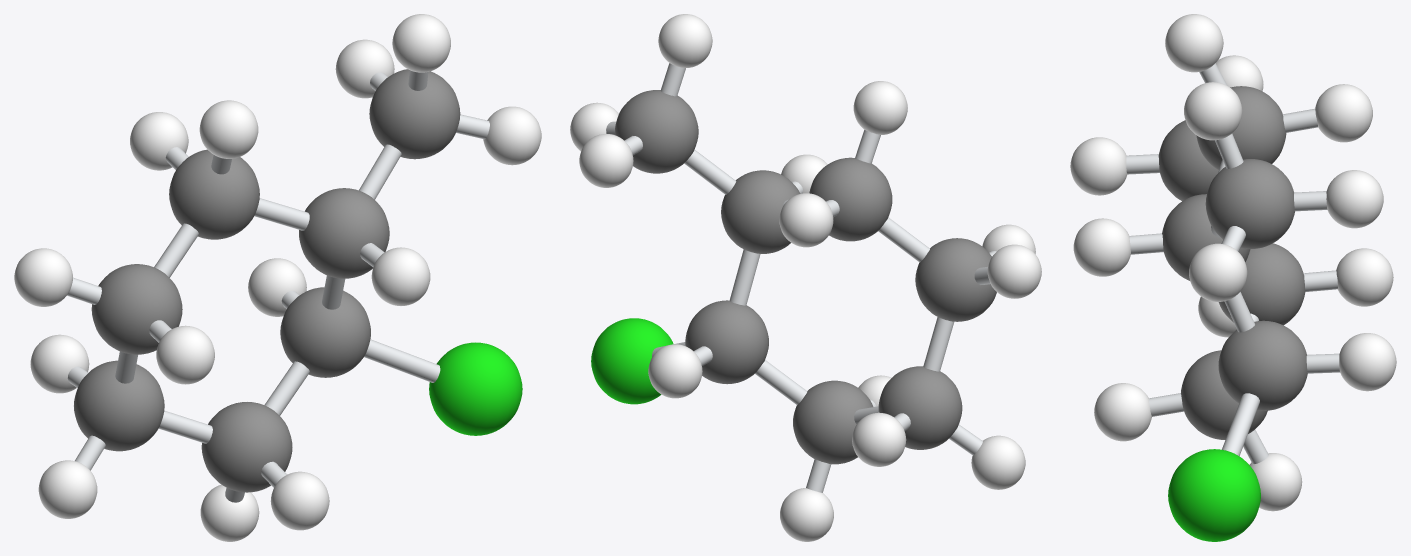
The model's file is trans-1-cloro-2-metilciclohexano.glb.
The picture shows the model from 3 angles, left to right: view 1: azimuth 30°, elevation 25°; view 2: azimuth 150°, elevation 25°; view 3: azimuth 270°, elevation 25°; orthographic projection. The views are drawn at different scales.
Visible parts, largest first — view 1: instanced (×2); view 2: instanced (×2); view 3: instanced (×2).
Part boxes in pixels (x1,y1,x2,y2): instanced (×2): [14, 14, 541, 541]; instanced (×2): [570, 14, 1041, 541]; instanced (×2): [1070, 14, 1396, 541].
Bounding box in the file's own units: 0.0619 × 0.0584 × 0.0344.
